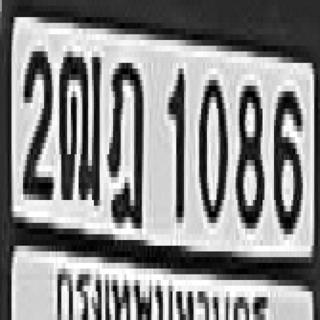A14: (105, 57, 142, 223)
A18: (57, 43, 100, 197)
N00: (197, 74, 226, 217)
N01: (167, 60, 182, 214)
N02: (20, 43, 51, 192)
N06: (272, 86, 301, 229)
N08: (234, 80, 263, 223)
